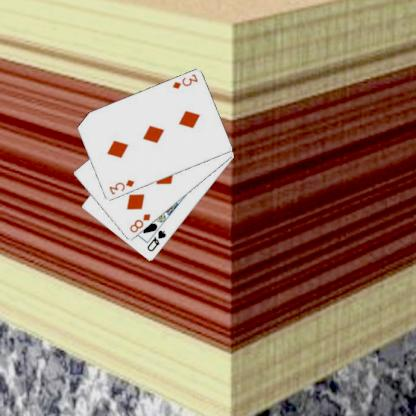3D: (106, 177, 136, 197), (169, 71, 199, 91)
8D: (127, 211, 152, 235)
QS: (144, 228, 168, 253)
